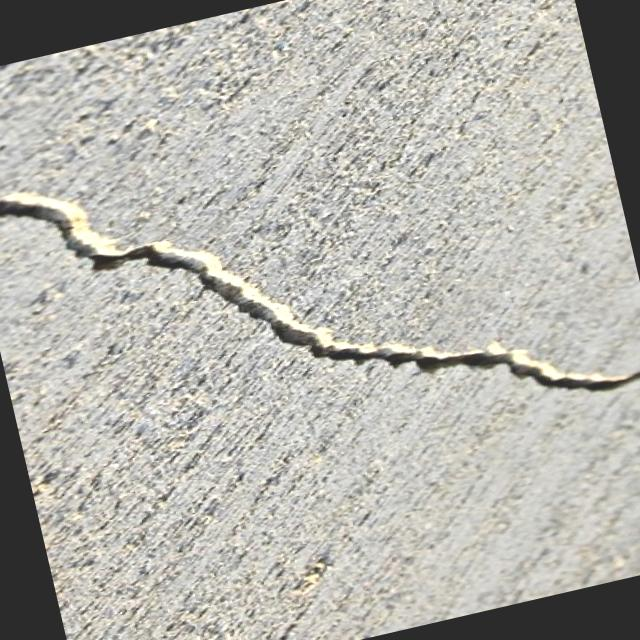crack: (0, 59, 640, 530)
